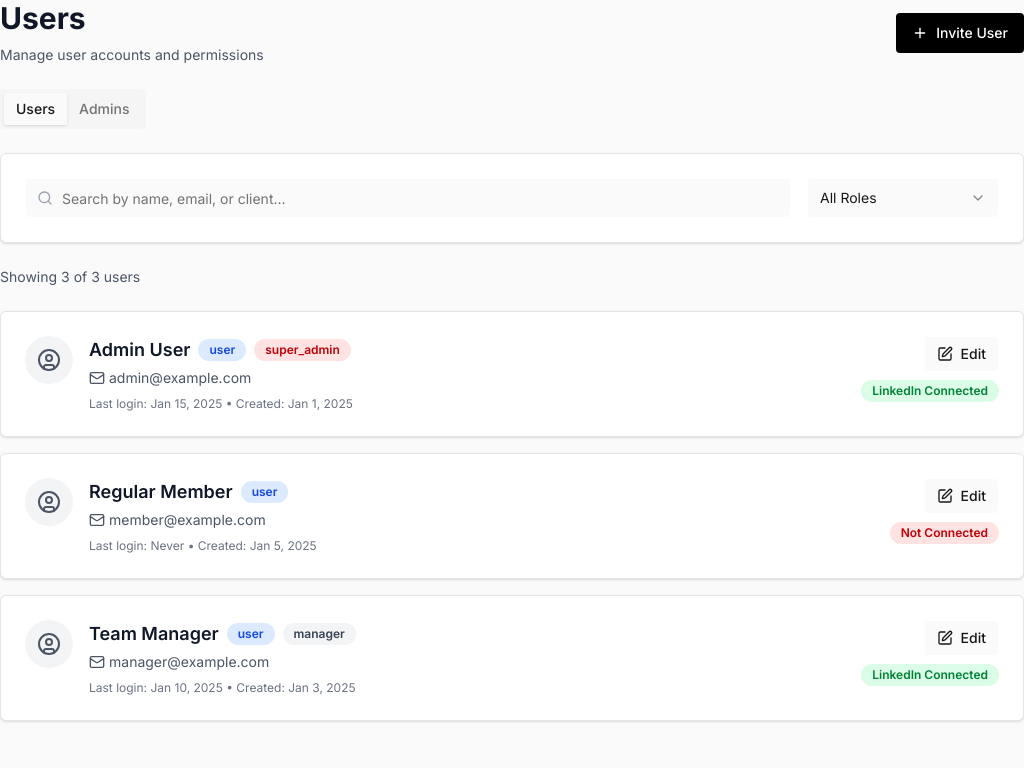
Test: Admin Users Page › Edit User Modal › should open edit modal when clicking Edit button
expect the heading "Admin User" is shown: met, box 89,336 -> 190,364
What coordinates should you click on to do the following:
click the button "Edit" in the row of "super_admin"
I would click on:
 (961, 354)
Its box is 924,336 -> 999,372.
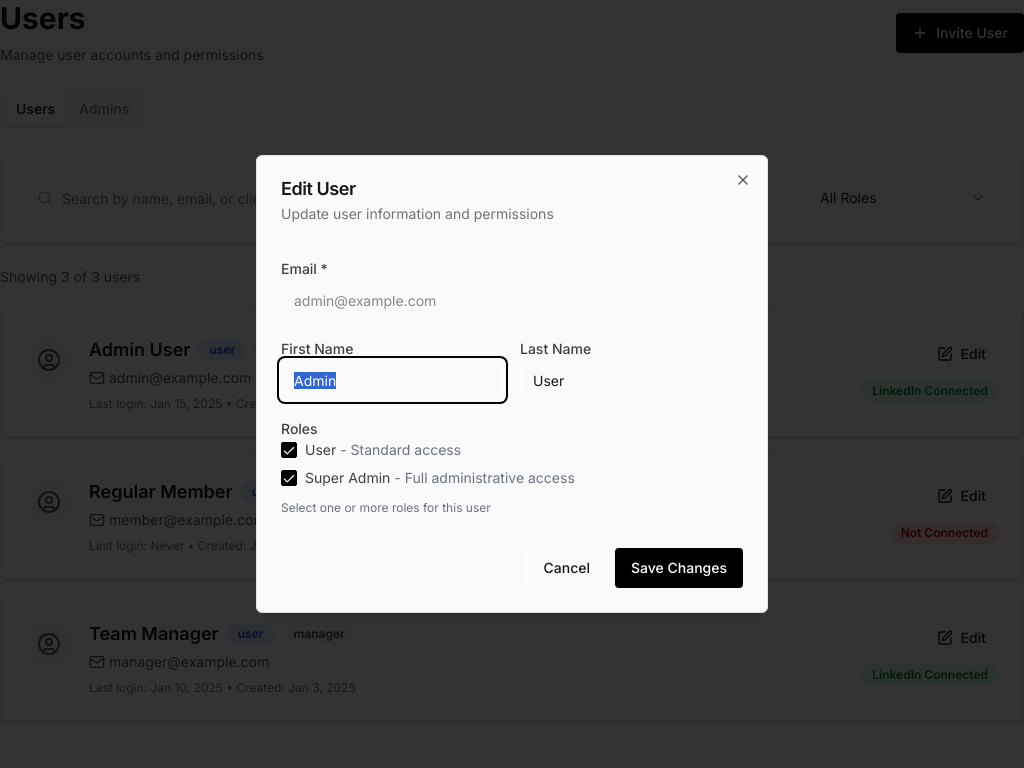
expect the heading "Edit User" is shown: met, box 281,178 -> 356,199
expect the text "Update user information and permissions" is shown: met, box 281,205 -> 554,222
